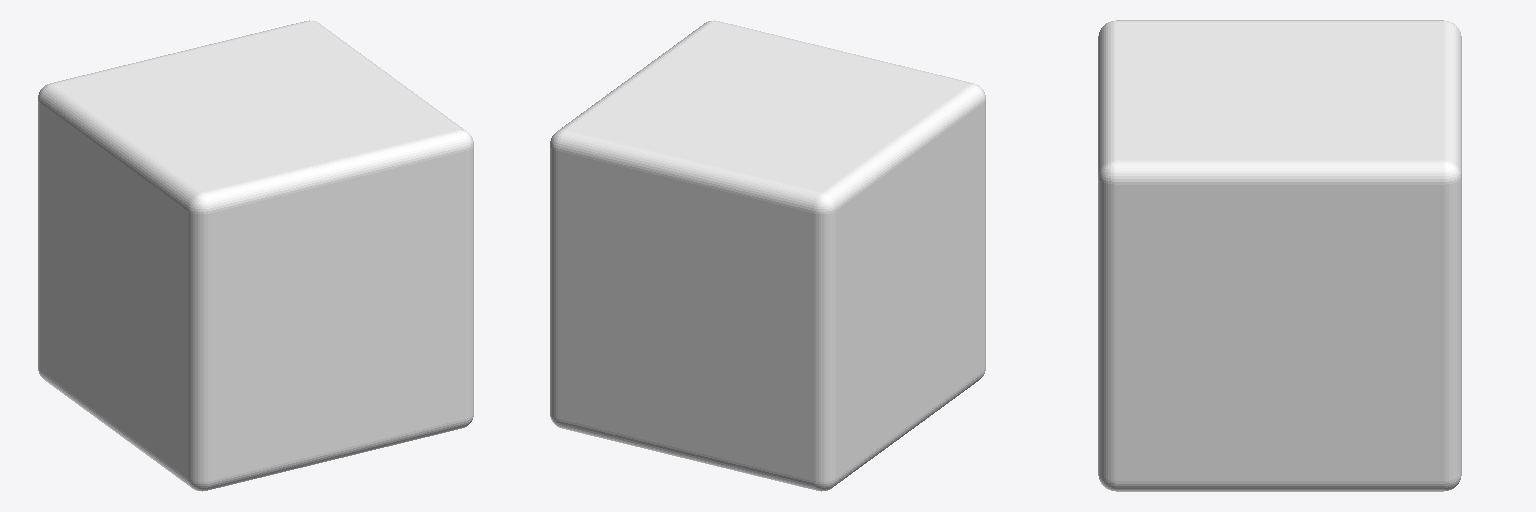
robot.urdf — Dice.urdf:
<?xml version="0.0" ?>
<robot name="Dice.urdf">
  <link name="baseLink">
    <contact>
      <lateral_friction value="1.0"/>
      <inertia_scaling value="3.0"/>
    </contact>
    <inertial>
      <origin rpy="0 0 0" xyz="0 0 0"/>
       <mass value=".1"/>
       <inertia ixx="1" ixy="0" ixz="0" iyy="1" iyz="0" izz="1"/>
    </inertial>
    <visual>
      <origin rpy="0 0 0" xyz="0 0 0"/>
      <geometry>
				<mesh filename="Dice.obj" scale=".05 .05 .05"/>
      </geometry>
       <material name="white">
        <color rgba="1 1 1 1"/>
      </material>
    </visual>
    <collision>
      <origin rpy="0 0 0" xyz="0 0 0"/>
      <geometry>
	 	<box size=".05 .05 .05"/>
      </geometry>
    </collision>
  </link>
</robot>


--- Facts derived from the render (not from the file) ---
Views: 3 orthographic renders of the robot side by side, from view 1: azimuth 30°, elevation 25°; view 2: azimuth 150°, elevation 25°; view 3: azimuth 270°, elevation 25°.
Robot: Dice.urdf — 1 links, 0 joints (none); root link baseLink; default pose: every joint at zero.
Links seen in each view (by area): view 1: baseLink; view 2: baseLink; view 3: baseLink.
Boxes of the visible links, left/top/right/bottom form: baseLink: left=38, top=20, right=473, bottom=491; baseLink: left=550, top=20, right=985, bottom=491; baseLink: left=1098, top=20, right=1461, bottom=491.
Size in the robot's own frame: 0.05 by 0.05 by 0.05 metres.
1 mesh visuals loaded from 1 distinct referenced files (1 OBJ).